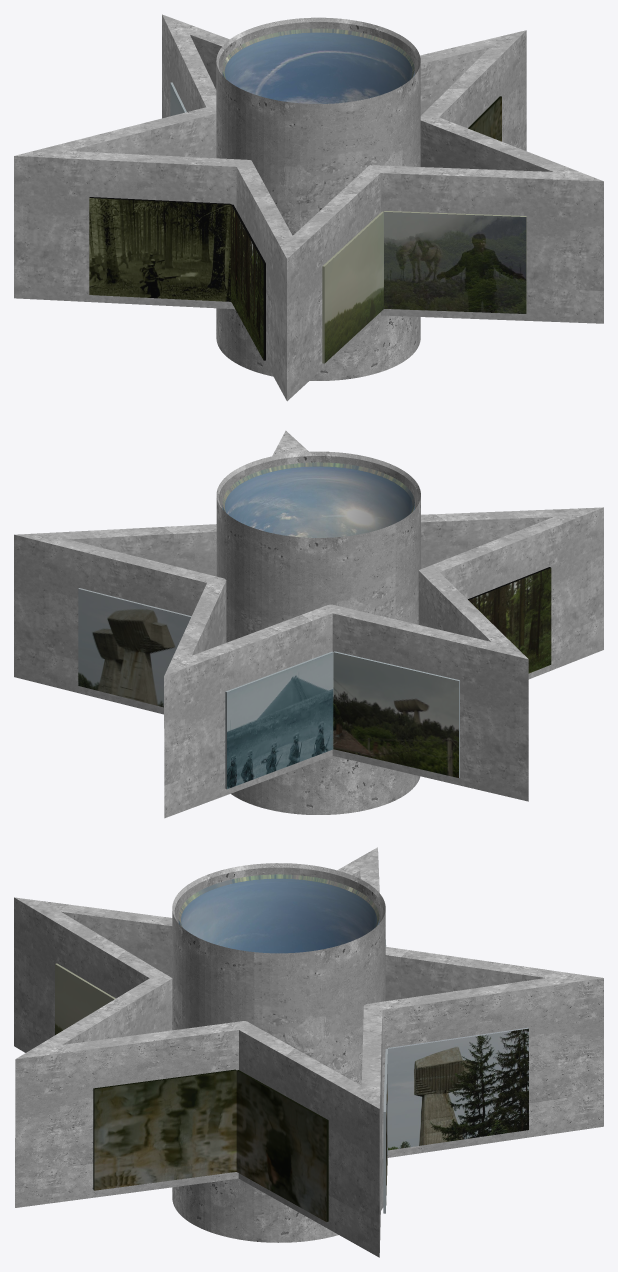
Rendered from tjentiste.glb.
3 views of the same model, one above another, from view 1: azimuth 30°, elevation 25°; view 2: azimuth 150°, elevation 25°; view 3: azimuth 270°, elevation 25° (orthographic). The views are drawn at different scales.
Visible parts, largest first — view 1: TWE - 3D-Ansicht - 3D-Ansicht 4.001, Cylinder.002, videotarget, Kozara, Cylinder.001, mostar; view 2: TWE - 3D-Ansicht - 3D-Ansicht 4.001, Cylinder.002, mitrovica, Cylinder.001, NIS, Kozara; view 3: TWE - 3D-Ansicht - 3D-Ansicht 4.001, Cylinder.002, mostar, NIS, Cylinder.001, videotarget.
Boxes of the visible parts, x1,y1,x2,y2 form: TWE - 3D-Ansicht - 3D-Ansicht 4.001: [14, 14, 603, 401]; Cylinder.002: [216, 17, 420, 380]; videotarget: [322, 211, 526, 363]; Kozara: [89, 197, 265, 360]; Cylinder.001: [222, 28, 414, 103]; mostar: [468, 96, 501, 141]; TWE - 3D-Ansicht - 3D-Ansicht 4.001: [14, 430, 603, 818]; Cylinder.002: [216, 451, 420, 814]; mitrovica: [225, 651, 459, 789]; Cylinder.001: [222, 462, 414, 537]; NIS: [78, 588, 191, 707]; Kozara: [468, 567, 551, 673]; TWE - 3D-Ansicht - 3D-Ansicht 4.001: [14, 847, 603, 1257]; Cylinder.002: [172, 863, 385, 1242]; mostar: [93, 1069, 328, 1221]; NIS: [383, 1027, 528, 1213]; Cylinder.001: [178, 874, 379, 953]; videotarget: [55, 963, 115, 1034].
Bounding box in the file's own units: 13.96 × 7.2 × 13.29.
Materials: 8 (8 with a texture image).
